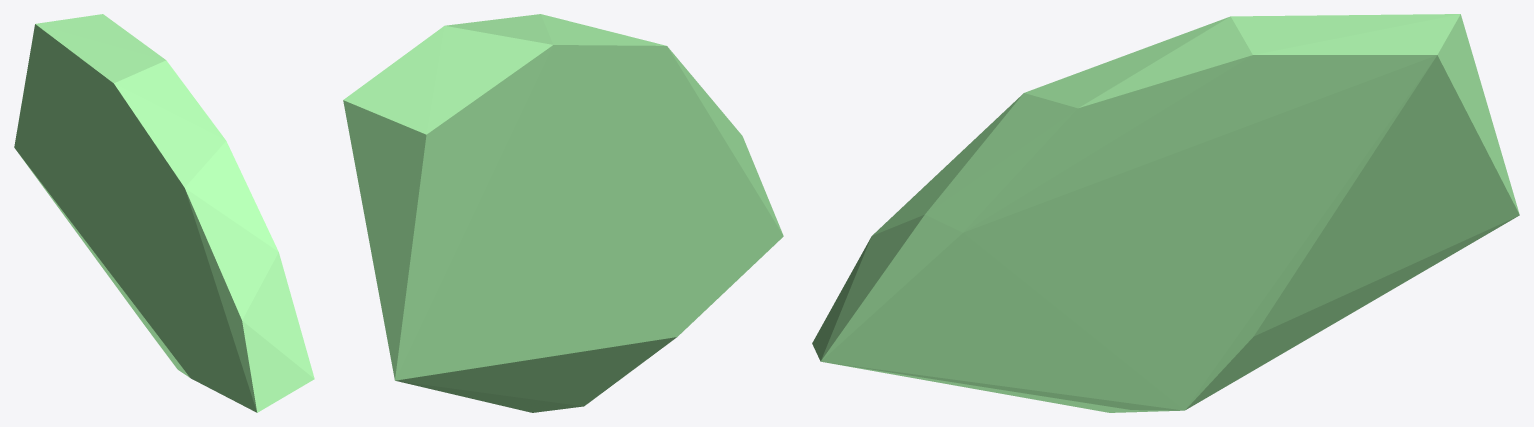
The model's file is linkhou_LR4_R560_link7_respondable_coll_22.dae.
The picture shows the model from 3 angles, left to right: view 1: azimuth 30°, elevation 25°; view 2: azimuth 150°, elevation 25°; view 3: azimuth 270°, elevation 25°; orthographic projection. The views are drawn at different scales.
Visible parts, largest first — view 1: Node_00000209DB3A9E60; view 2: Node_00000209DB3A9E60; view 3: Node_00000209DB3A9E60.
Boxes of the visible parts, bbox=[...] form: Node_00000209DB3A9E60: bbox=[14, 14, 314, 412]; Node_00000209DB3A9E60: bbox=[343, 14, 783, 412]; Node_00000209DB3A9E60: bbox=[812, 14, 1519, 412].
Bounding box in the file's own units: 0.00551 × 0.0224 × 0.0373.
